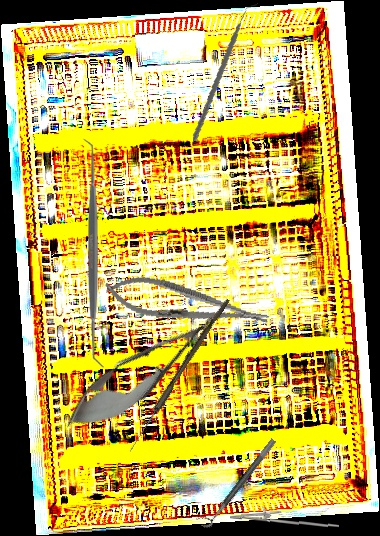Chopper: (171, 3, 280, 142)
Fixation Ring: (194, 432, 278, 531)
Micro Scissor: (52, 288, 241, 448)
Needle Holder: (100, 268, 273, 340), (229, 503, 340, 532)
Spatula Surgical: (81, 138, 106, 369)
Surgical Spoon: (127, 296, 230, 454)
